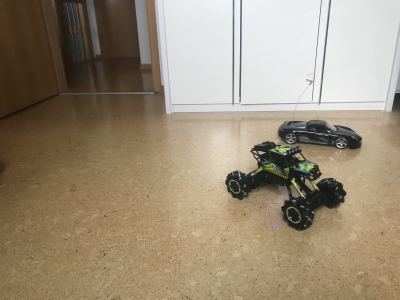remote control car: (223, 140, 349, 231)
